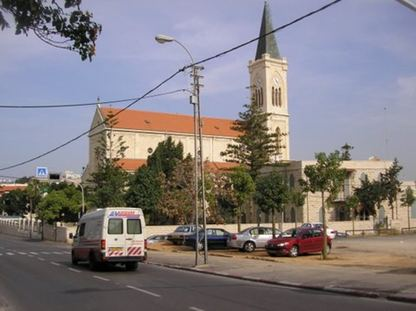ambulance: (68, 205, 147, 279)
